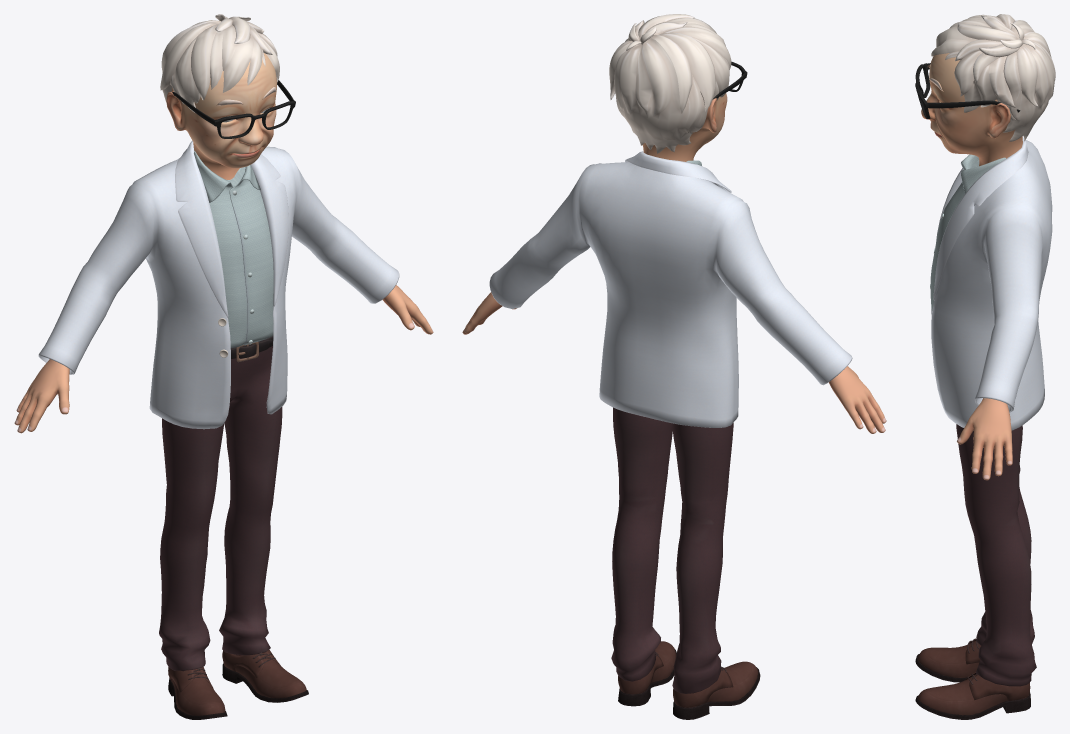
3 views of the same model, side by side, from view 1: azimuth 30°, elevation 25°; view 2: azimuth 150°, elevation 25°; view 3: azimuth 270°, elevation 25° (orthographic).
Parts seen in each view (by area): view 1: yifu, body, hair; view 2: yifu, hair, body; view 3: yifu, hair, body.
Boxes of the visible parts, <box> form: yifu: <box>38,80,399,719</box>; body: <box>14,53,433,433</box>; hair: <box>160,14,279,112</box>; yifu: <box>489,61,852,719</box>; hair: <box>609,14,731,153</box>; body: <box>462,93,886,433</box>; yifu: <box>915,63,1052,719</box>; hair: <box>931,14,1055,141</box>; body: <box>921,53,1022,480</box>.
Bounding box in the file's own units: 111 × 171 × 32.29.
